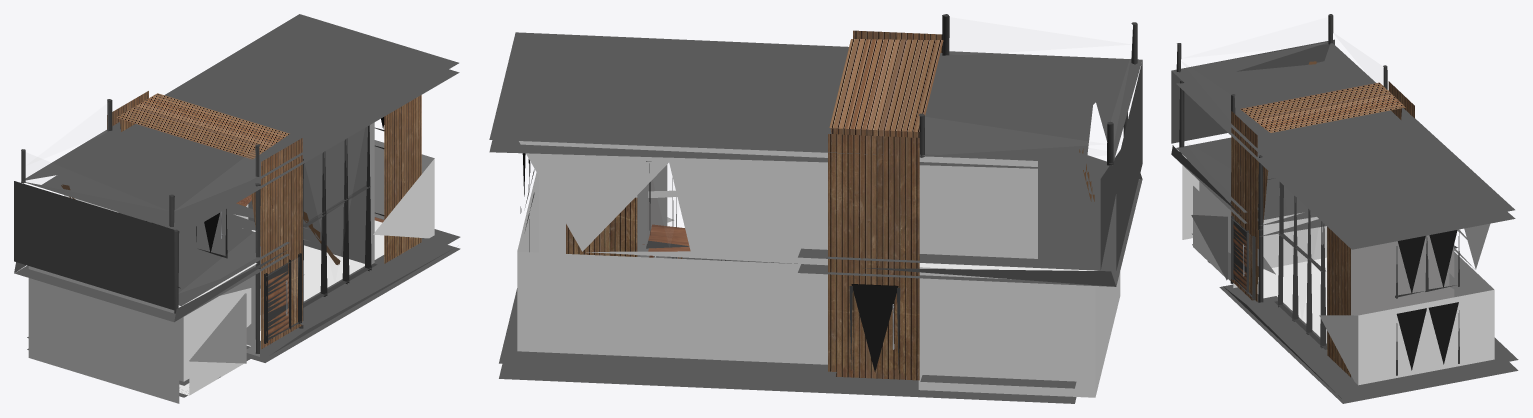
Rendered from house-real-2s.glb.
3 views of the same model, side by side, from view 1: azimuth 30°, elevation 25°; view 2: azimuth 150°, elevation 25°; view 3: azimuth 270°, elevation 25° (orthographic). The views are drawn at different scales.
Parts seen in each view (by area): view 1: Cladding, Box012, Box009, Parter, Box013, Box011, Box091, Box036, Box018, Box022, Box006, Box007 (+4 smaller); view 2: Cladding, Parter001, Parter, Box009, Box012, Box011, Box101, Box091, Box013, Box014; view 3: Cladding, Parter, Box009, Box011, Box013, Box012, Box091, Box036, Box103, Box105, Box109, Box107 (+10 smaller).
Part boxes in pixels (x1=…): Cladding: x1=14, y1=14, x2=459, y2=322; Box012: x1=28, y1=263, x2=259, y2=403; Box009: x1=107, y1=91, x2=302, y2=349; Parter: x1=179, y1=140, x2=434, y2=381; Box013: x1=248, y1=122, x2=374, y2=264; Box011: x1=27, y1=217, x2=460, y2=397; Box091: x1=384, y1=95, x2=421, y2=263; Box036: x1=189, y1=293, x2=246, y2=363; Box018: x1=264, y1=253, x2=301, y2=343; Box022: x1=268, y1=263, x2=287, y2=340; Box006: x1=320, y1=151, x2=327, y2=296; Box007: x1=342, y1=138, x2=349, y2=284; Cladding: x1=489, y1=32, x2=1142, y2=286; Parter001: x1=519, y1=141, x2=1037, y2=265; Parter: x1=517, y1=172, x2=827, y2=364; Box009: x1=828, y1=30, x2=943, y2=380; Box012: x1=918, y1=263, x2=1120, y2=397; Box011: x1=499, y1=256, x2=1076, y2=403; Box101: x1=851, y1=284, x2=898, y2=372; Box091: x1=566, y1=197, x2=637, y2=256; Box013: x1=637, y1=165, x2=667, y2=258; Box014: x1=642, y1=224, x2=690, y2=251; Cladding: x1=1171, y1=39, x2=1515, y2=249; Parter: x1=1199, y1=181, x2=1494, y2=385; Box009: x1=1231, y1=81, x2=1414, y2=301; Box011: x1=1192, y1=233, x2=1518, y2=403; Box013: x1=1327, y1=226, x2=1454, y2=346; Box012: x1=1182, y1=154, x2=1326, y2=287; Box091: x1=1327, y1=227, x2=1350, y2=377; Box036: x1=1191, y1=215, x2=1227, y2=280; Box103: x1=1428, y1=302, x2=1458, y2=364; Box105: x1=1396, y1=308, x2=1426, y2=370; Box109: x1=1429, y1=230, x2=1457, y2=287; Box107: x1=1398, y1=236, x2=1425, y2=293.
Size of the model in its own units: 15949 by 7097 by 11620.
9 materials, 3 textured.
